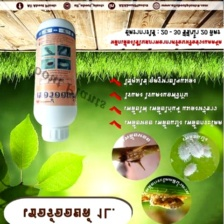insecticide: (29, 15, 80, 144)
